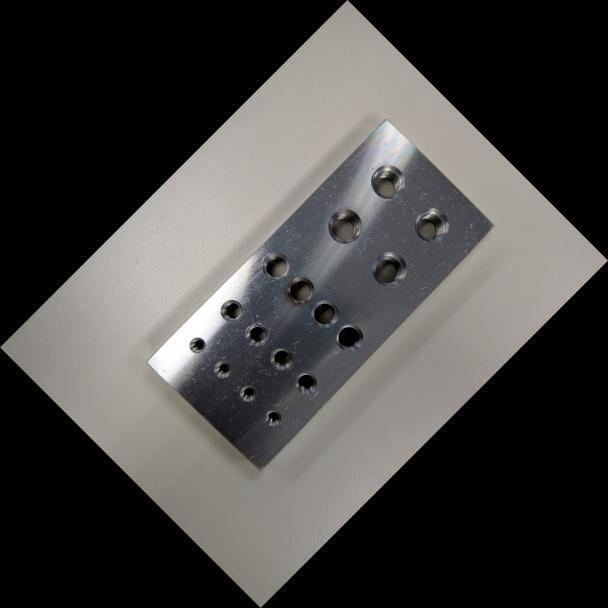hole: (406, 199, 457, 251), (319, 201, 371, 252), (364, 243, 415, 295), (363, 157, 412, 207), (254, 245, 296, 286), (304, 293, 345, 334), (329, 317, 370, 358), (279, 269, 320, 309), (264, 341, 298, 376), (214, 293, 248, 327), (239, 317, 273, 351), (289, 366, 322, 400), (209, 355, 236, 383), (260, 405, 286, 431), (185, 333, 210, 358), (235, 381, 260, 406)
